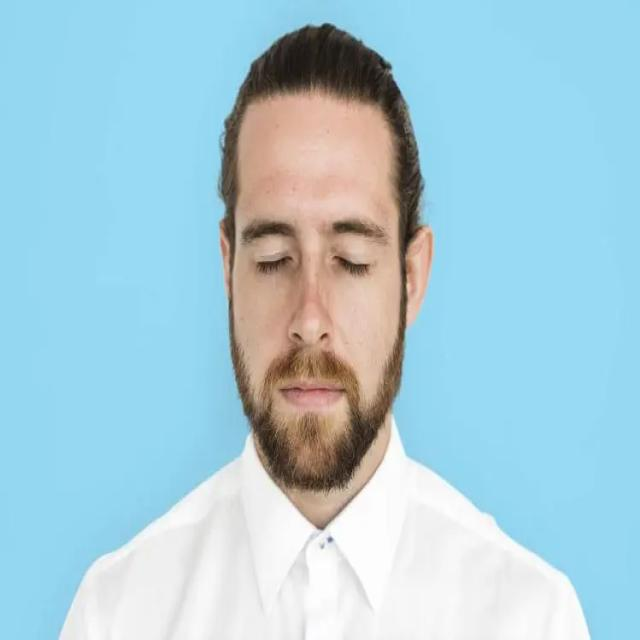Closed: (330, 244, 372, 278), (253, 244, 296, 276)
